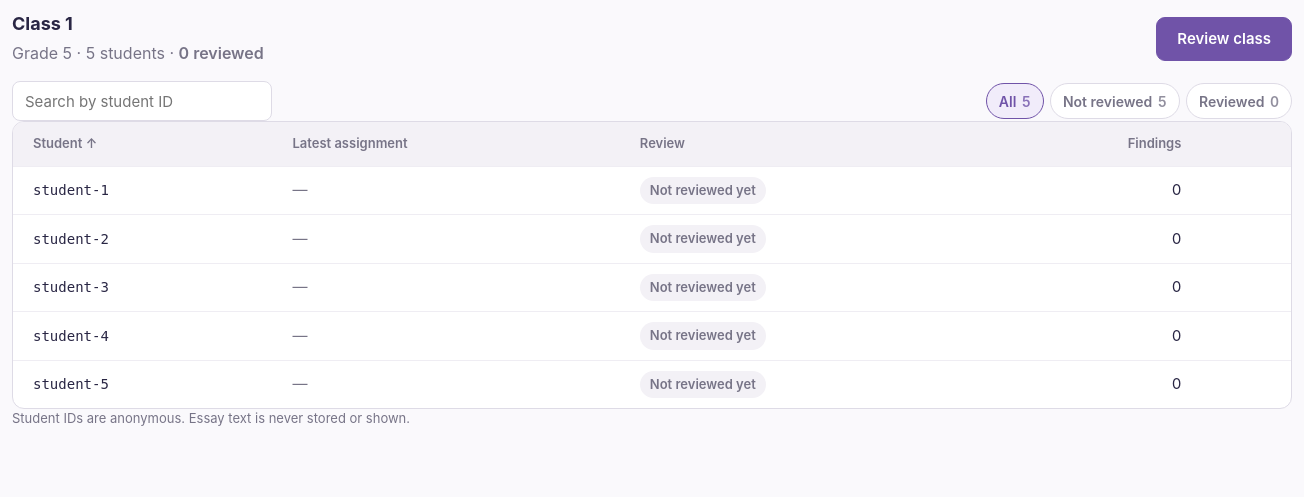
Test: StudentsPage progress boundary tests › shows why a review couldn't start
Step 1. Click the button "Review class" → x=1224, y=39, box [1156,17,1292,61]
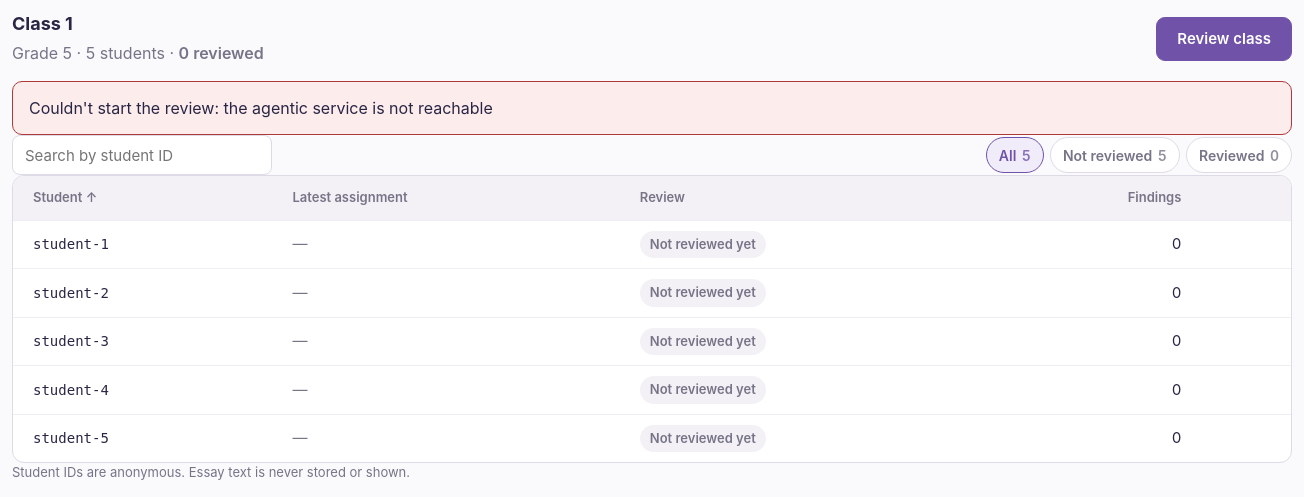
Expected: the message shows "the agentic service is not reachable", [224,98,493,118]
